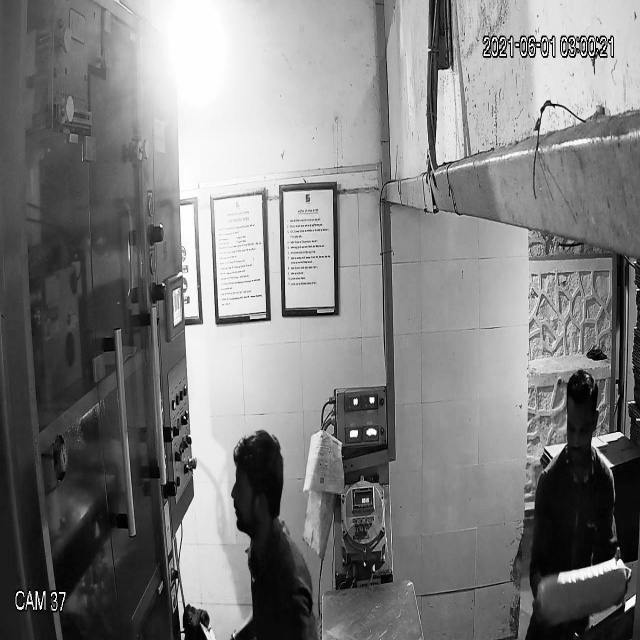Sin_gafas: (224, 470, 268, 507), (561, 411, 598, 445)
